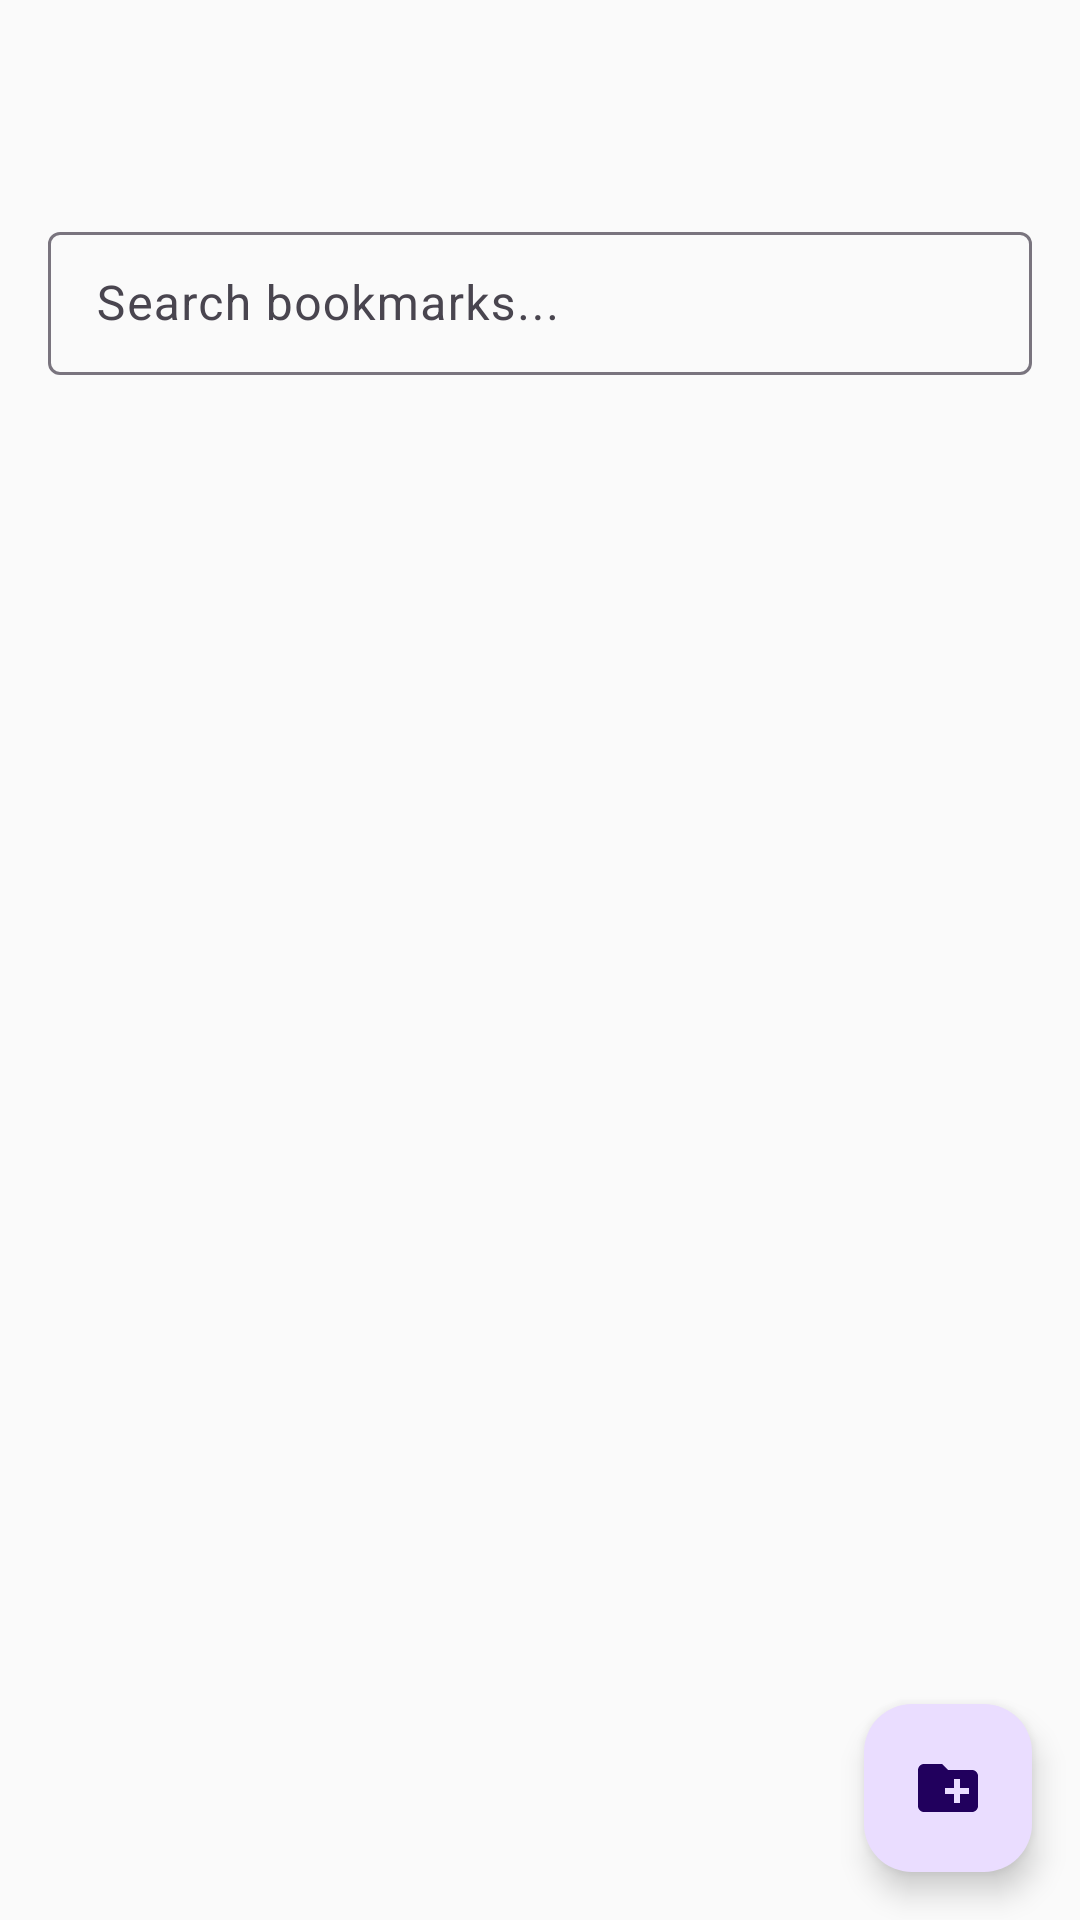

Screen size 1080*1920. Icon name, then its center in pixels as (x=x, y=y):
create folder: (x=948, y=1788)
